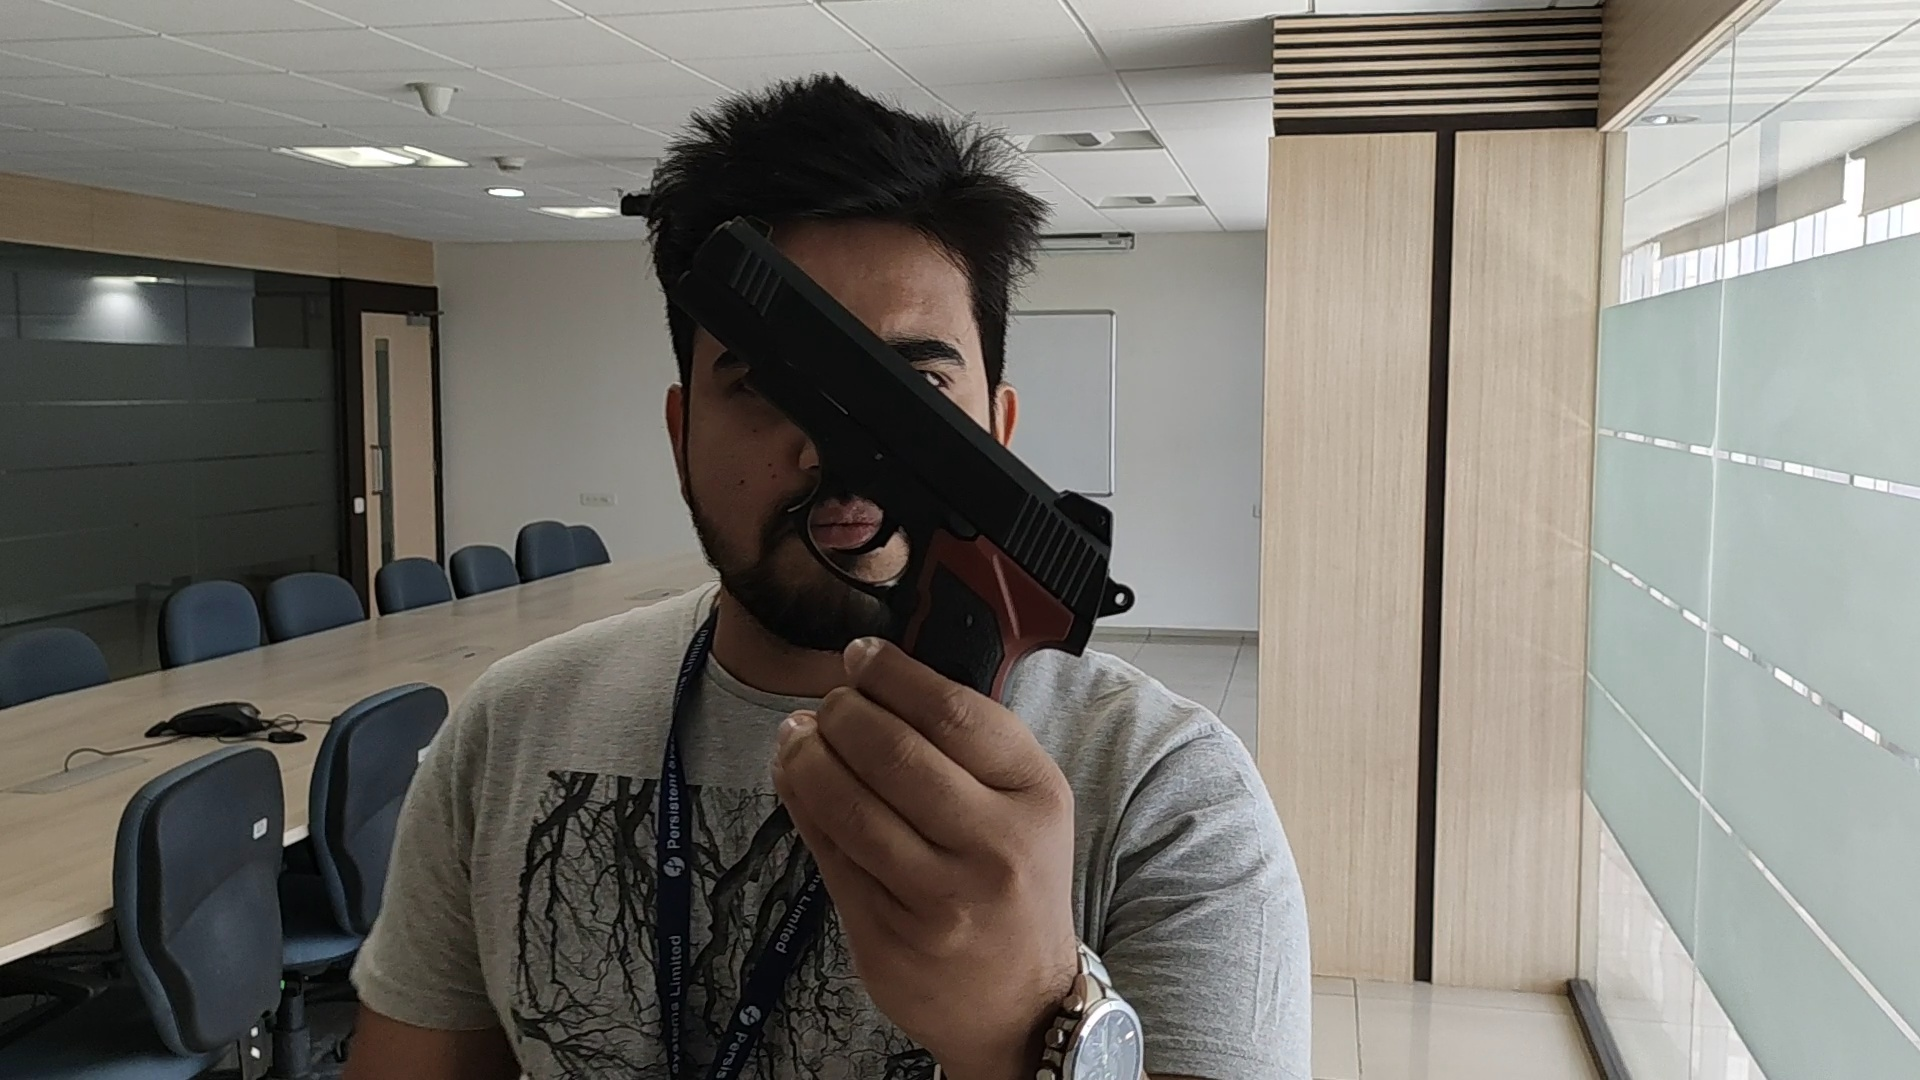gun: (673, 210, 1135, 637)
